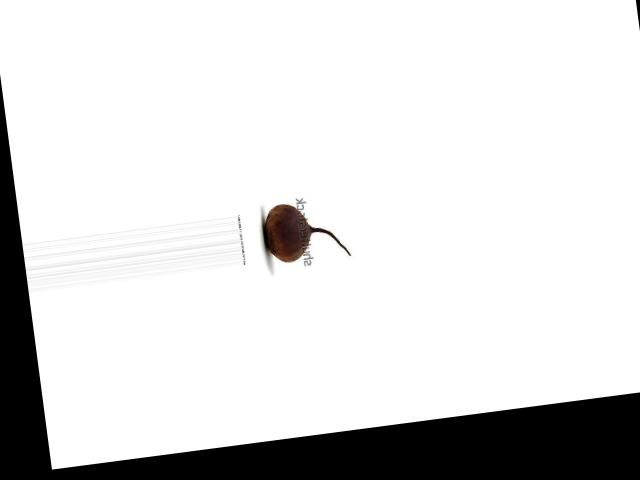beet: (260, 195, 350, 266)
